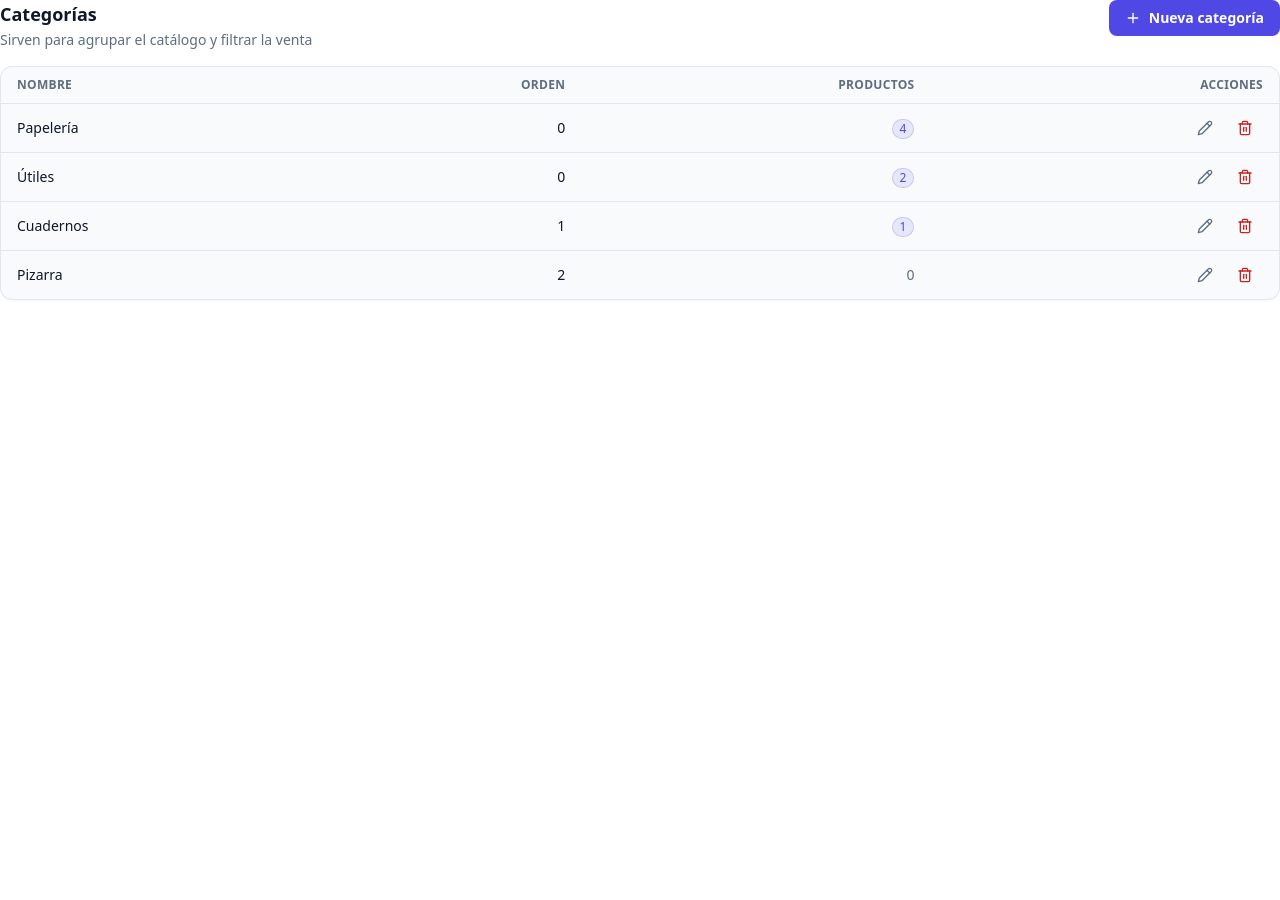
CategoriasPage › exige nombre y un orden que sea un entero
Click the button "Nueva categoría" at (1194, 18), box [1109,0,1279,36]
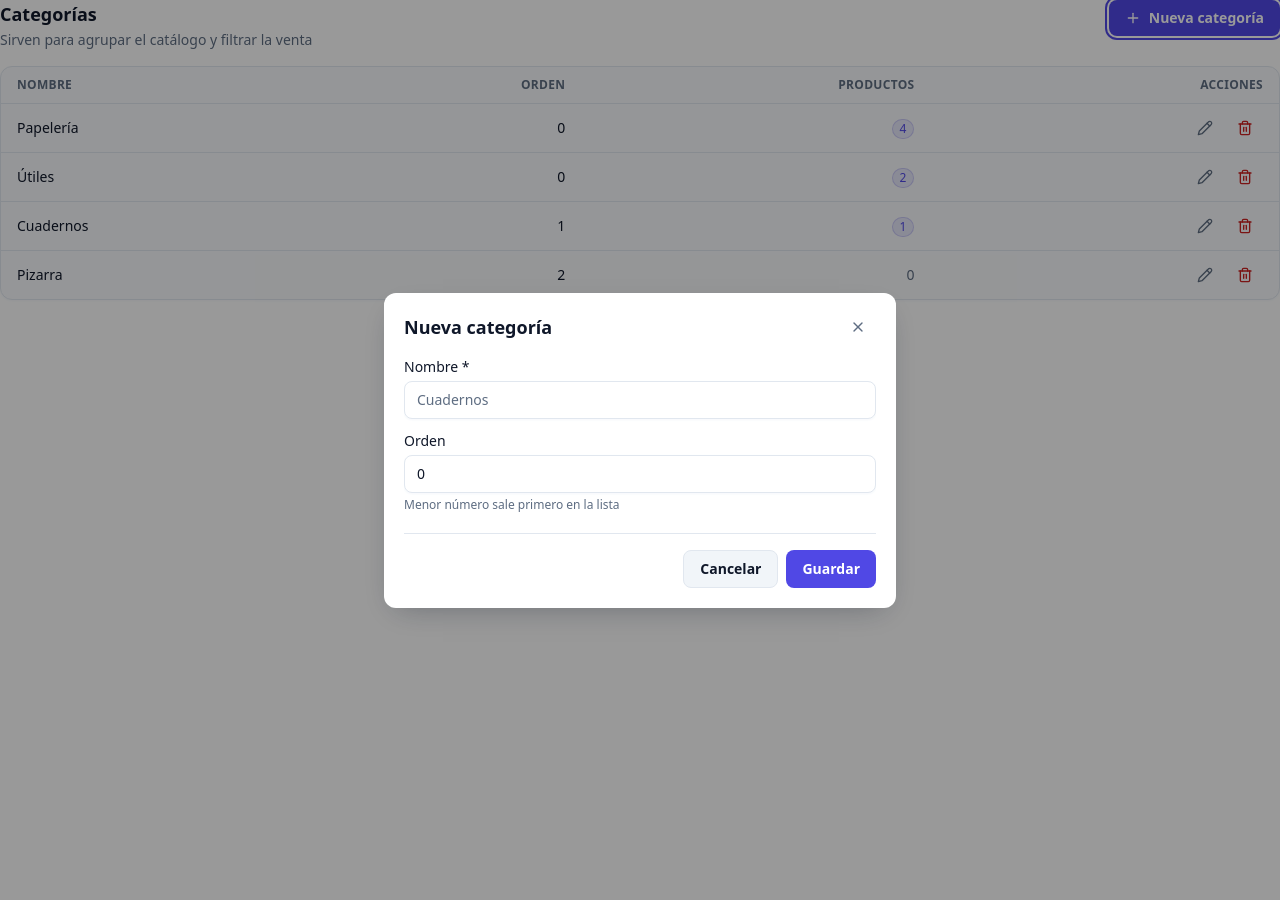
Click the button "Guardar" at (831, 568), box [786,550,876,588]
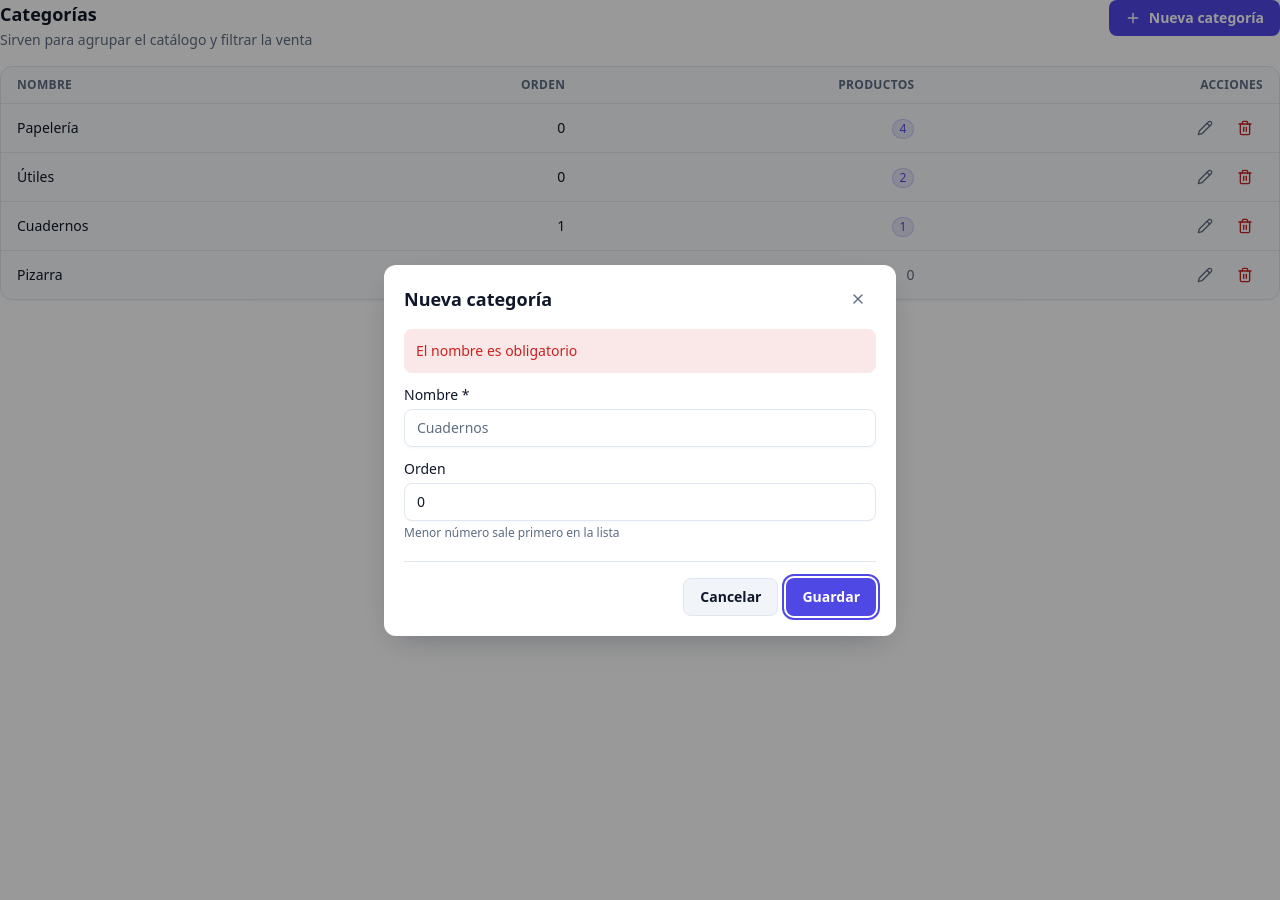
Expected: the message reads "El nombre es obligatorio", [416,340,577,360]
Type "X" into the field labelled "Nombre *" at (640, 428), box [404,408,876,446]
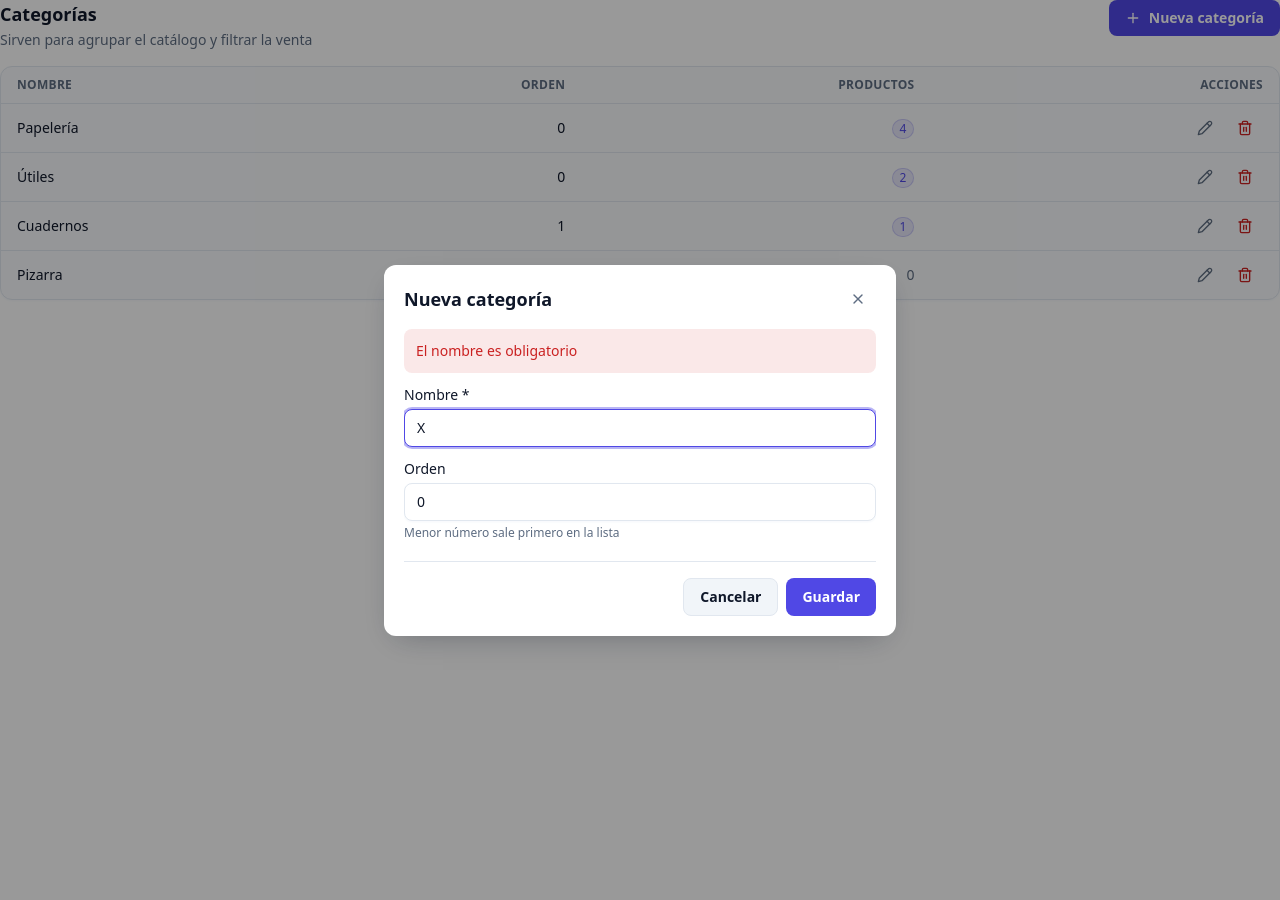
Replace the text in the number field labelled "Orden" with "1.5" at (640, 502), box [404,482,876,520]
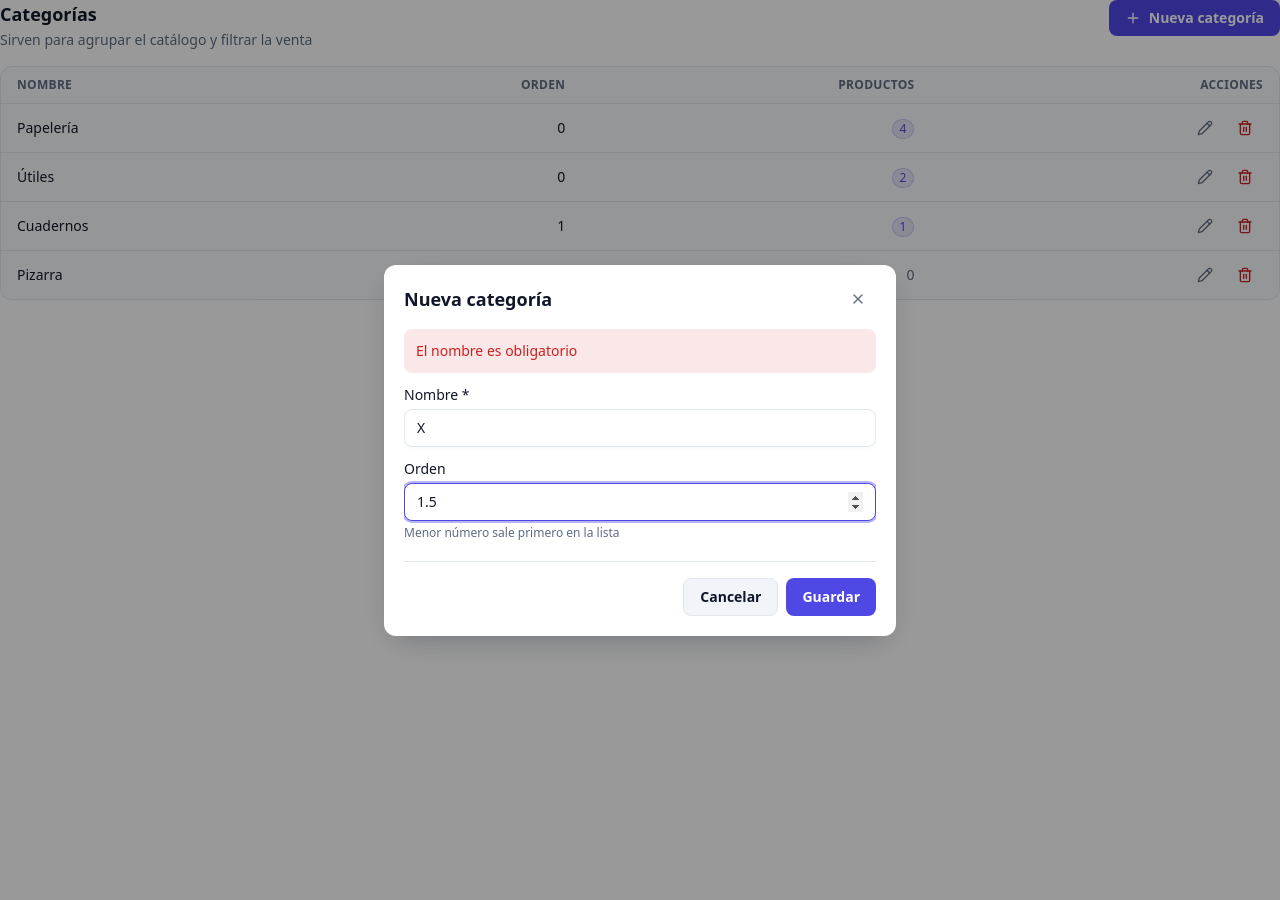
Click the button "Guardar" at (831, 596), box [786,578,876,616]
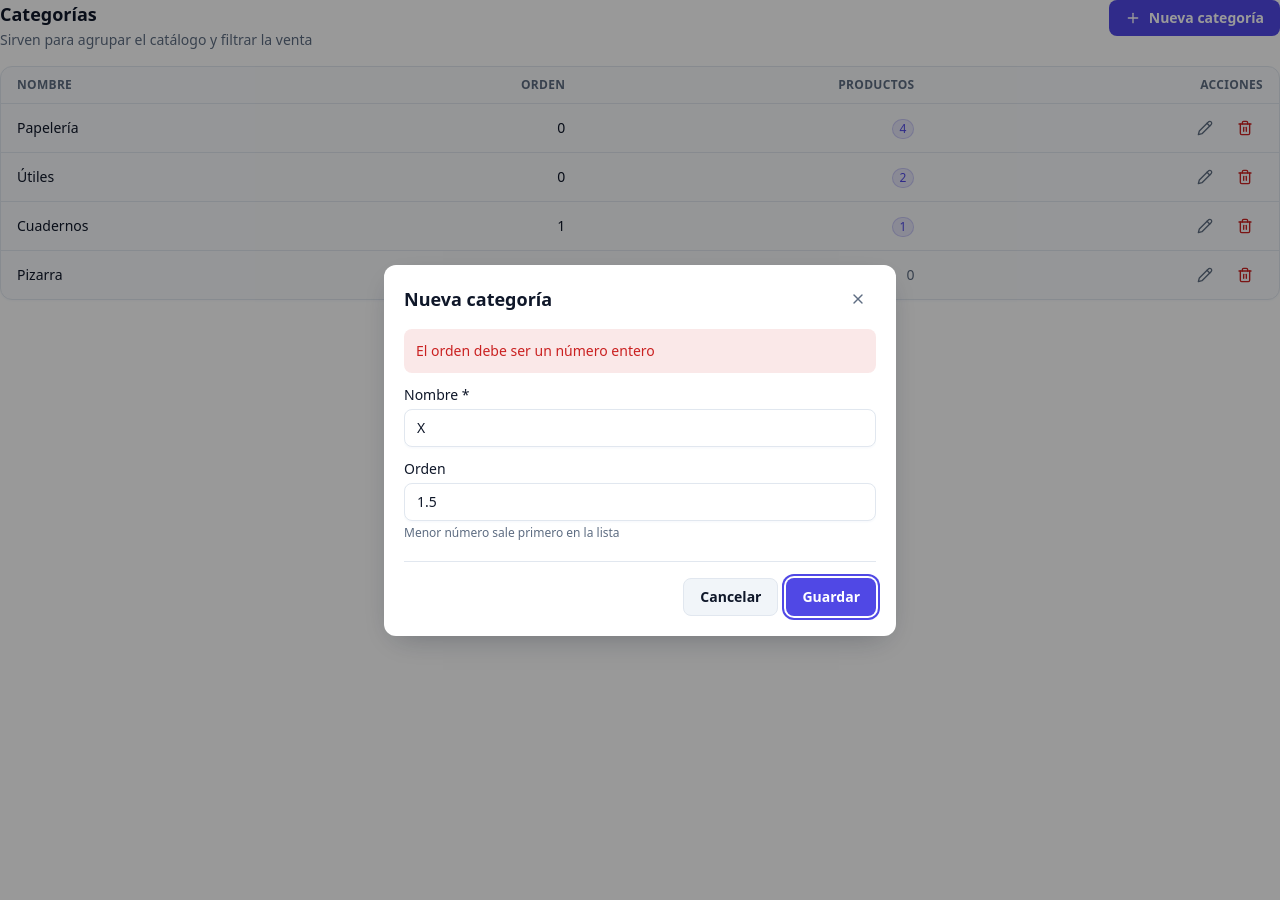
Expected: the message reads "El orden debe ser un número entero", [416,340,655,360]
